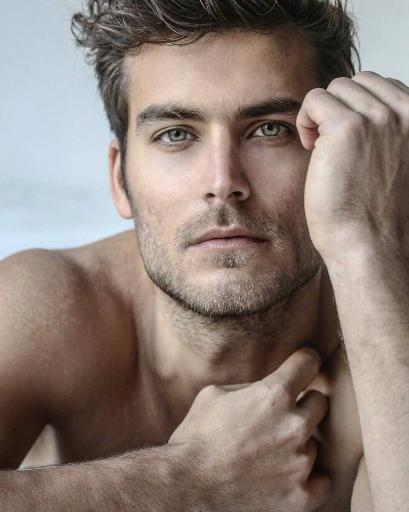left_eye: (245, 119, 297, 143)
left_lip_corner: (252, 225, 275, 255)
right_eye: (148, 125, 200, 148)
right_lip_corner: (183, 233, 204, 256)
